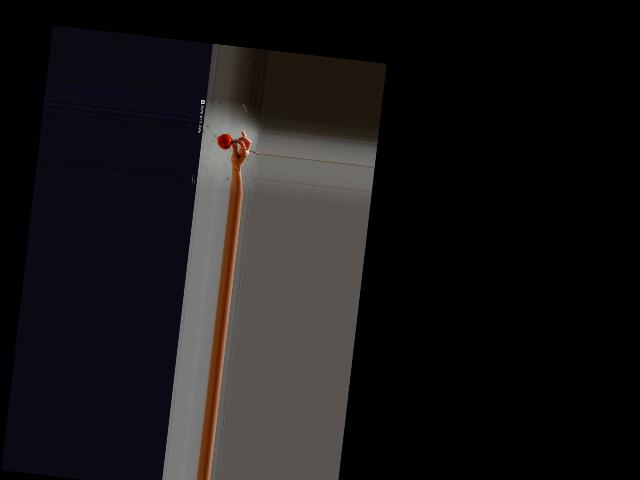tomato: (215, 133, 232, 150)
